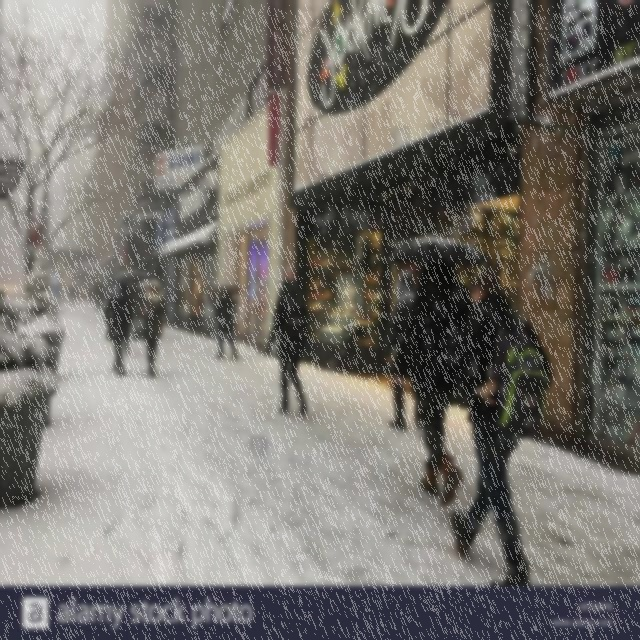pessoa: (445, 268, 553, 588), (394, 261, 474, 508), (264, 274, 312, 420), (384, 270, 419, 432), (440, 245, 478, 340), (138, 278, 168, 378), (103, 282, 133, 378), (214, 289, 238, 361), (65, 278, 107, 312), (119, 284, 136, 354)
